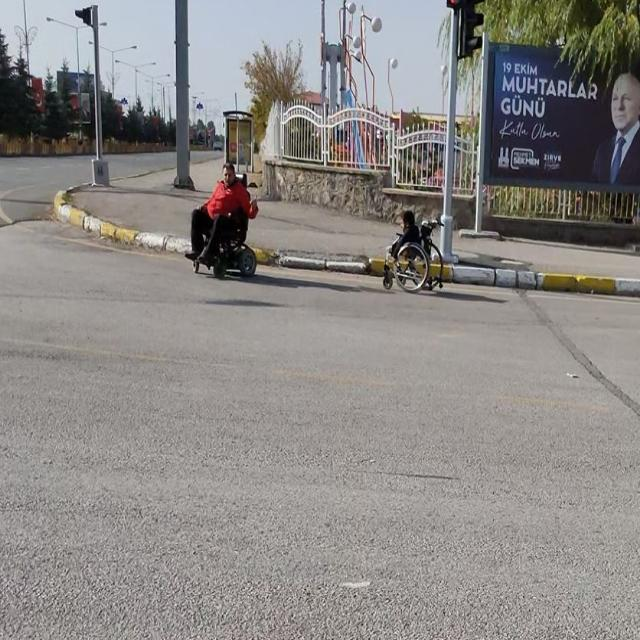wheelchairs: (196, 186, 255, 274), (384, 230, 447, 299)
